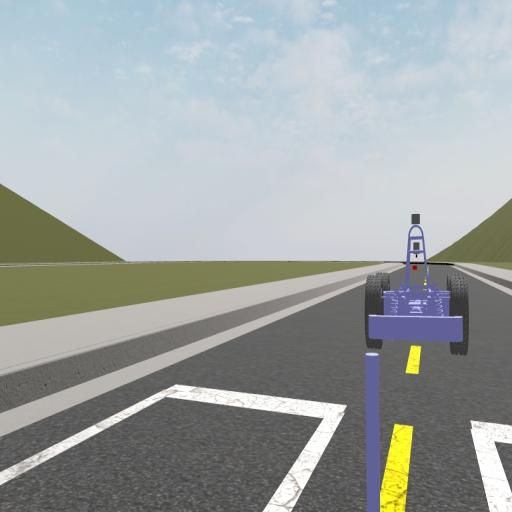ERP-42: (364, 212, 468, 356)
